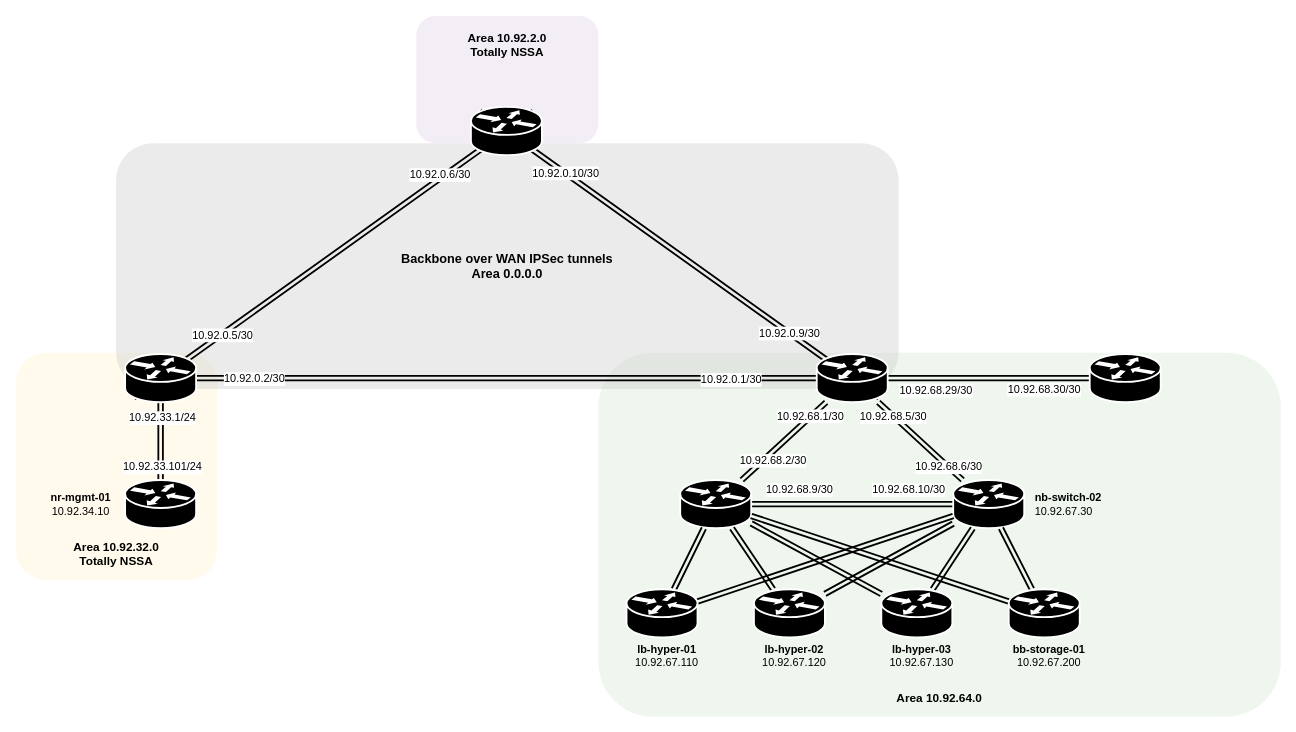
Image size: 1296x732. Some labels were removed from this diagram. The centre of each missing label's shape, as x and y in pixels:
lb-mgmt-01 10.92.67.50: point 1124,378
le-mgmt-01 10.92.2.0: point 506,131
nb-router-01 10.92.67.10: point 851,378
nb-switch-01 10.92.67.20: point 715,504
nr-router-01 10.92.34.0: point 160,378
